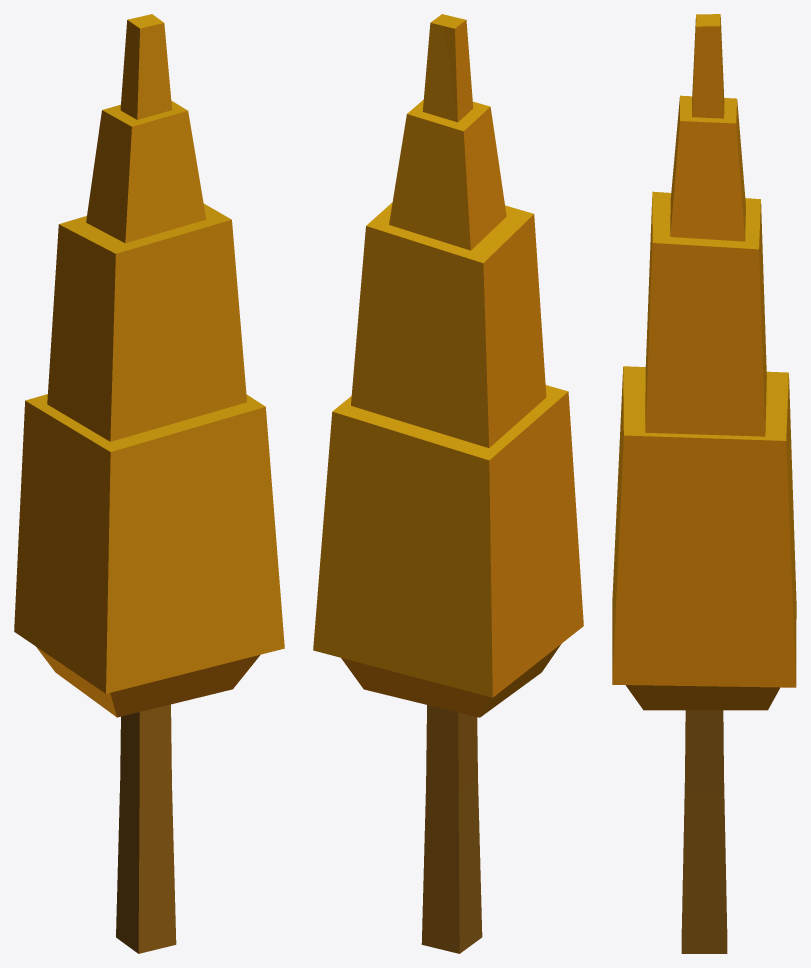
Rendered from SF_Env_Tree_Fall_10.fbx.
3 views of the same model, side by side, from view 1: azimuth 30°, elevation 25°; view 2: azimuth 150°, elevation 25°; view 3: azimuth 270°, elevation 25° (orthographic).
Parts seen in each view (by area): view 1: SF_Env_Tree_Fall_10; view 2: SF_Env_Tree_Fall_10; view 3: SF_Env_Tree_Fall_10.
Part boxes in pixels (x1,y1,x2,y2): SF_Env_Tree_Fall_10: (14, 14, 284, 953); SF_Env_Tree_Fall_10: (313, 14, 583, 953); SF_Env_Tree_Fall_10: (612, 14, 796, 953).
Size of the model in its own units: 1.93 by 9.43 by 1.7.
